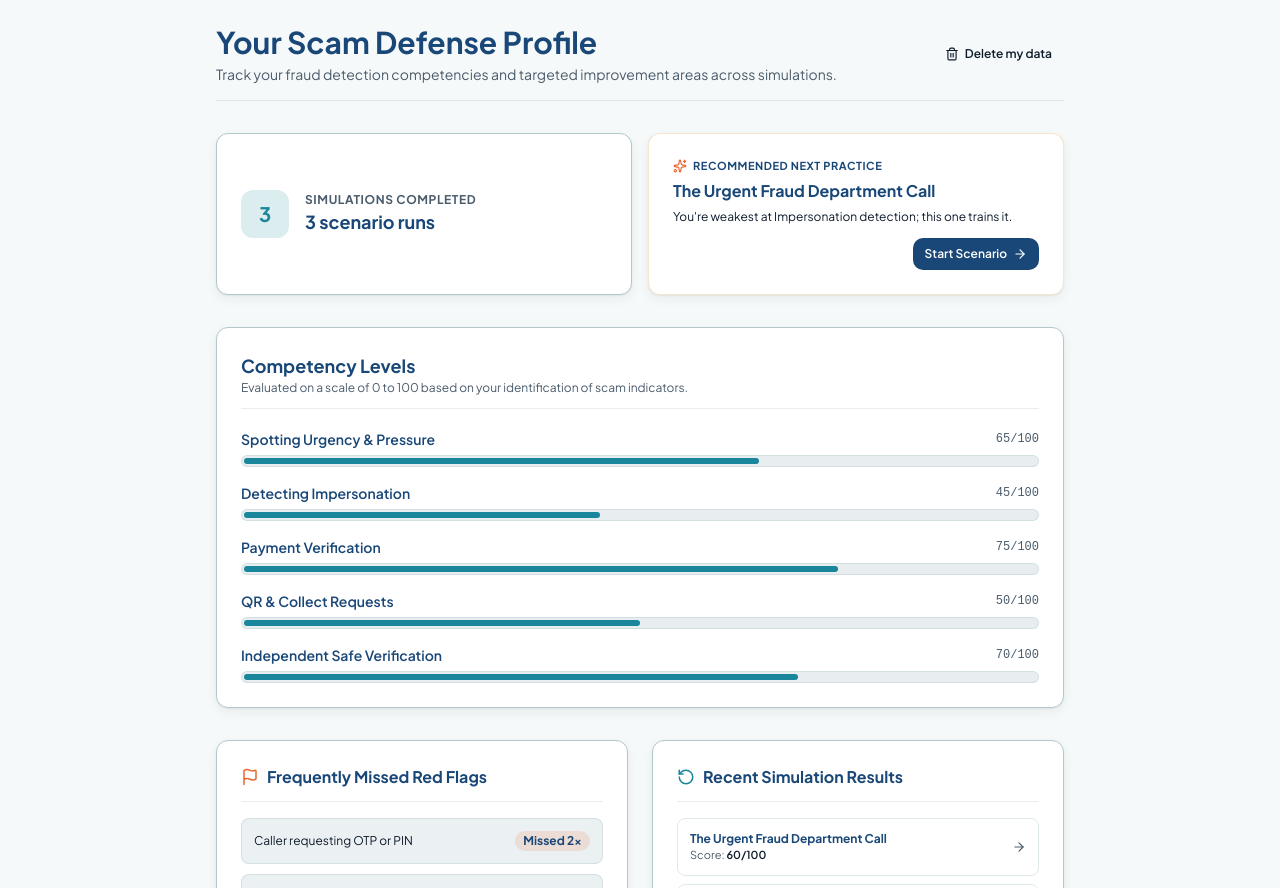
Scenario: ProgressPage Component Tests (PROMPT 08) › executes delete my data flow with confirmation dialog
The image size is (1280, 888).
Step 1. Click the button "Delete my data" → coordinates (998, 54), box [933,38,1064,70]
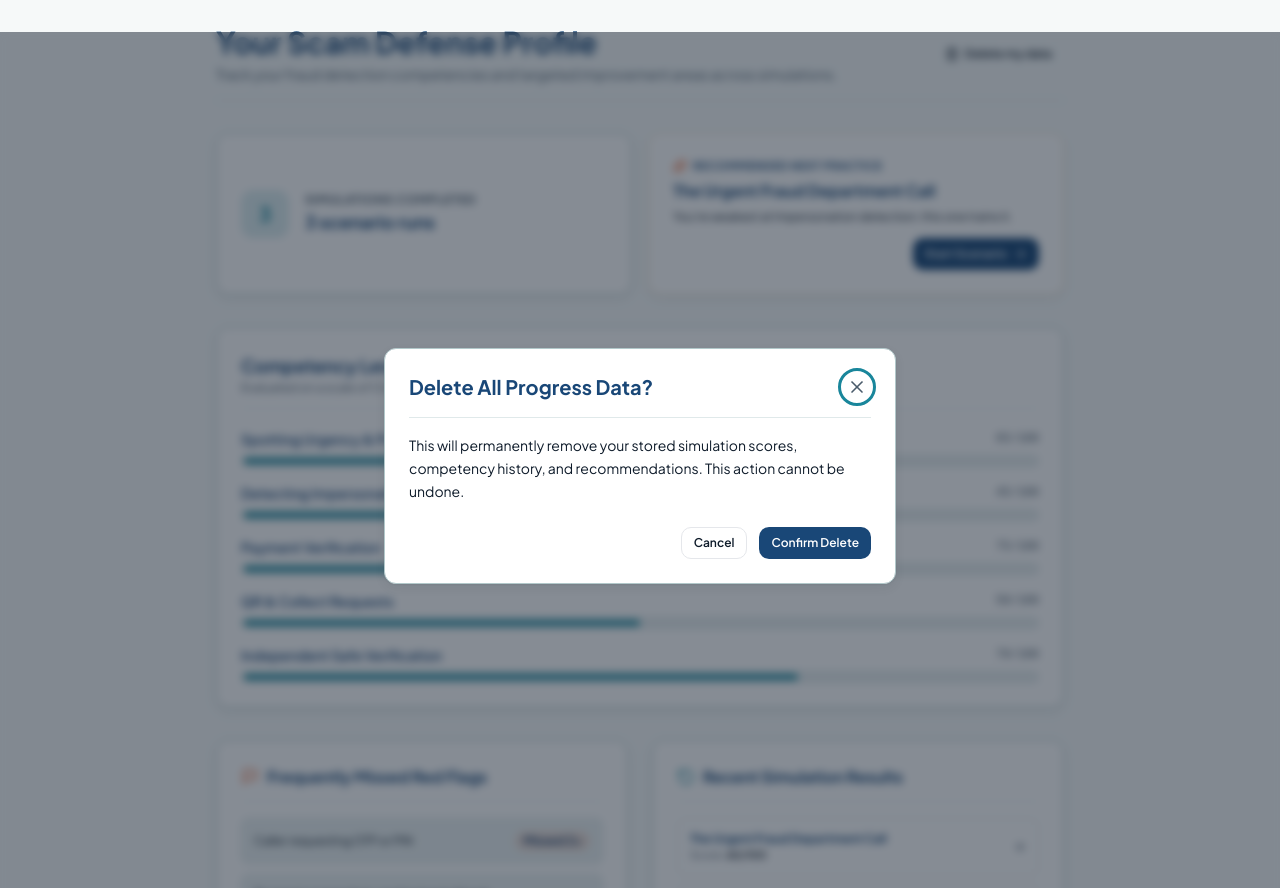
Expected: the heading "Delete All Progress Data?" is shown, [409,373,653,401]
Step 2. Click the button "Confirm Delete" → coordinates (815, 543), box [760,527,871,559]
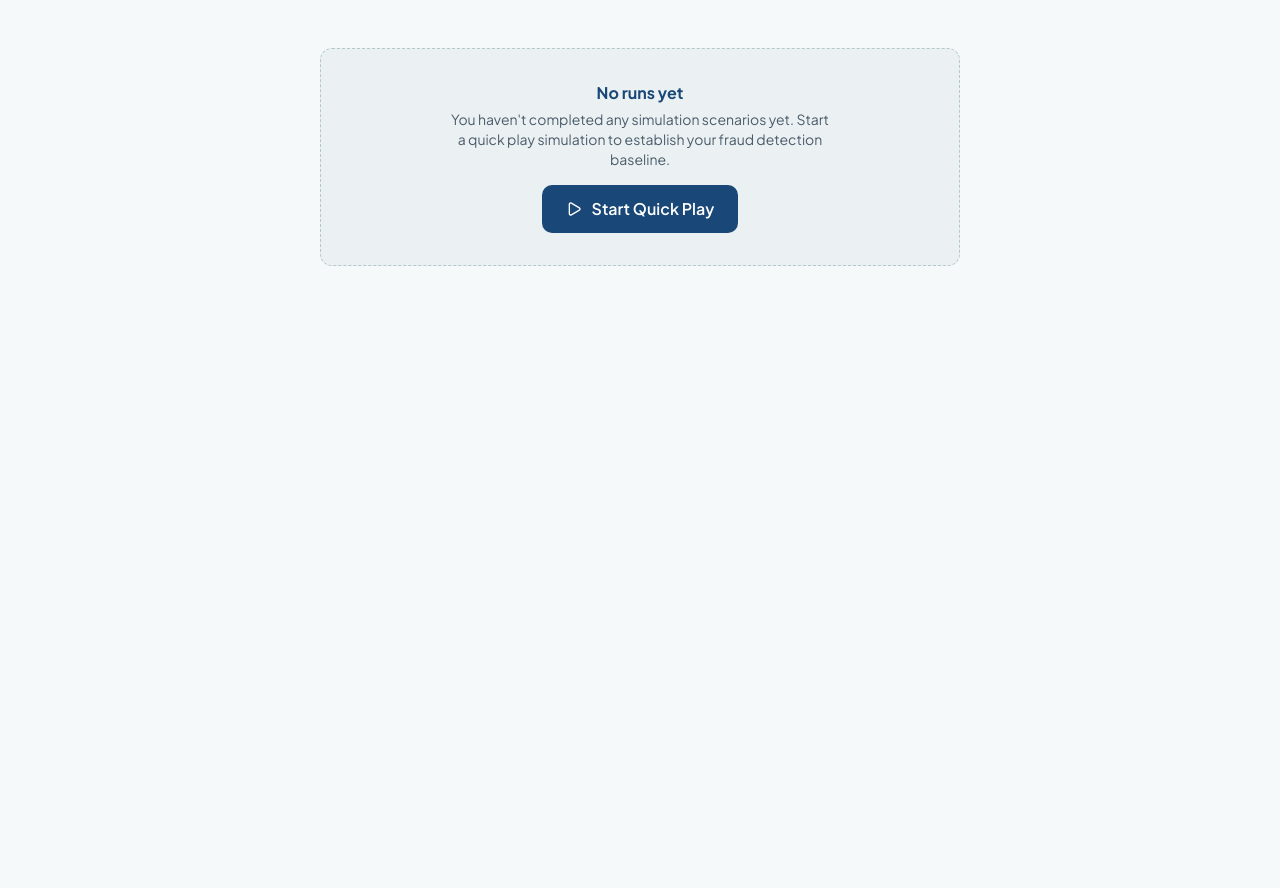
Expected: the heading "No runs yet" is shown, [597,81,683,105]
